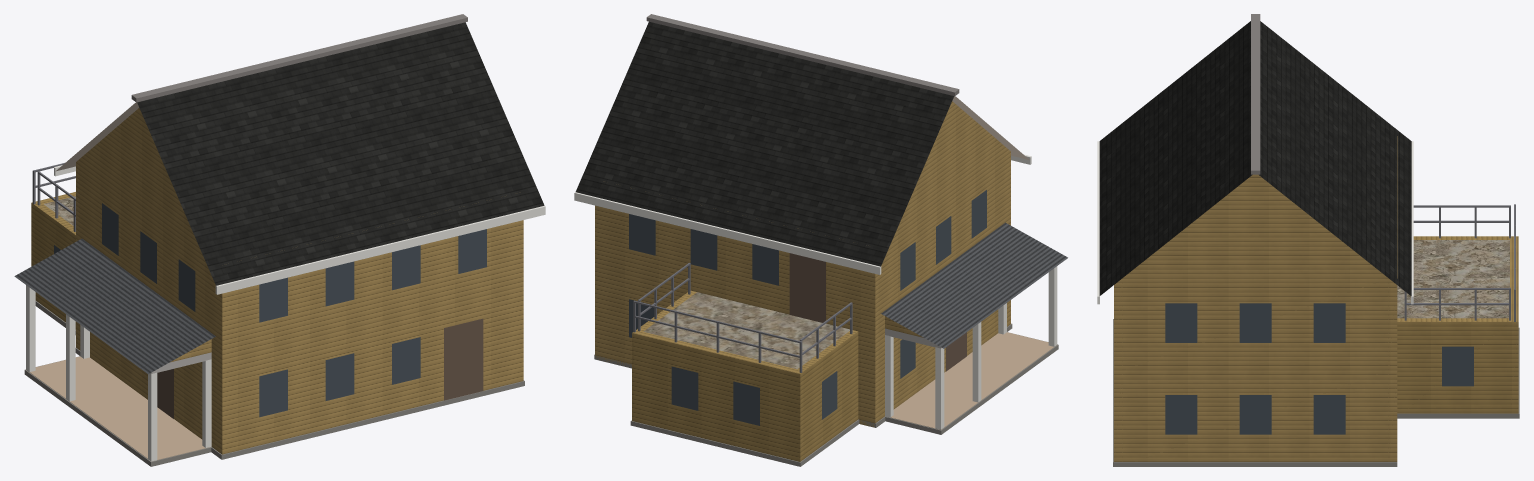
File: mh-company-house.towns-v1.lod1.glb
3 renders of one model, left to right at view 1: azimuth 30°, elevation 25°; view 2: azimuth 150°, elevation 25°; view 3: azimuth 270°, elevation 25°, orthographic. The views are drawn at different scales.
Parts seen in each view (by area): view 1: mh-company-house; view 2: mh-company-house; view 3: mh-company-house.
Boxes of the visible parts, x1,y1,x2,y2 form: mh-company-house: [14, 14, 545, 466]; mh-company-house: [574, 14, 1067, 466]; mh-company-house: [1097, 14, 1519, 466].
Size of the model in its own units: 12.75 by 9.91 by 12.52.
5 materials, 4 textured.
